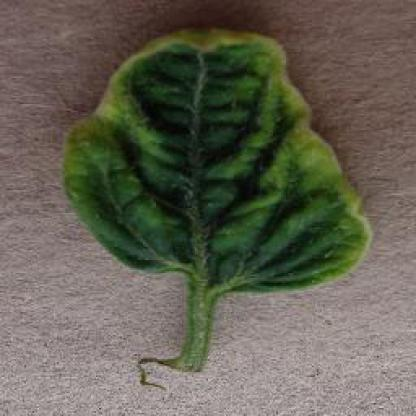bad leaf: (74, 24, 328, 244)
